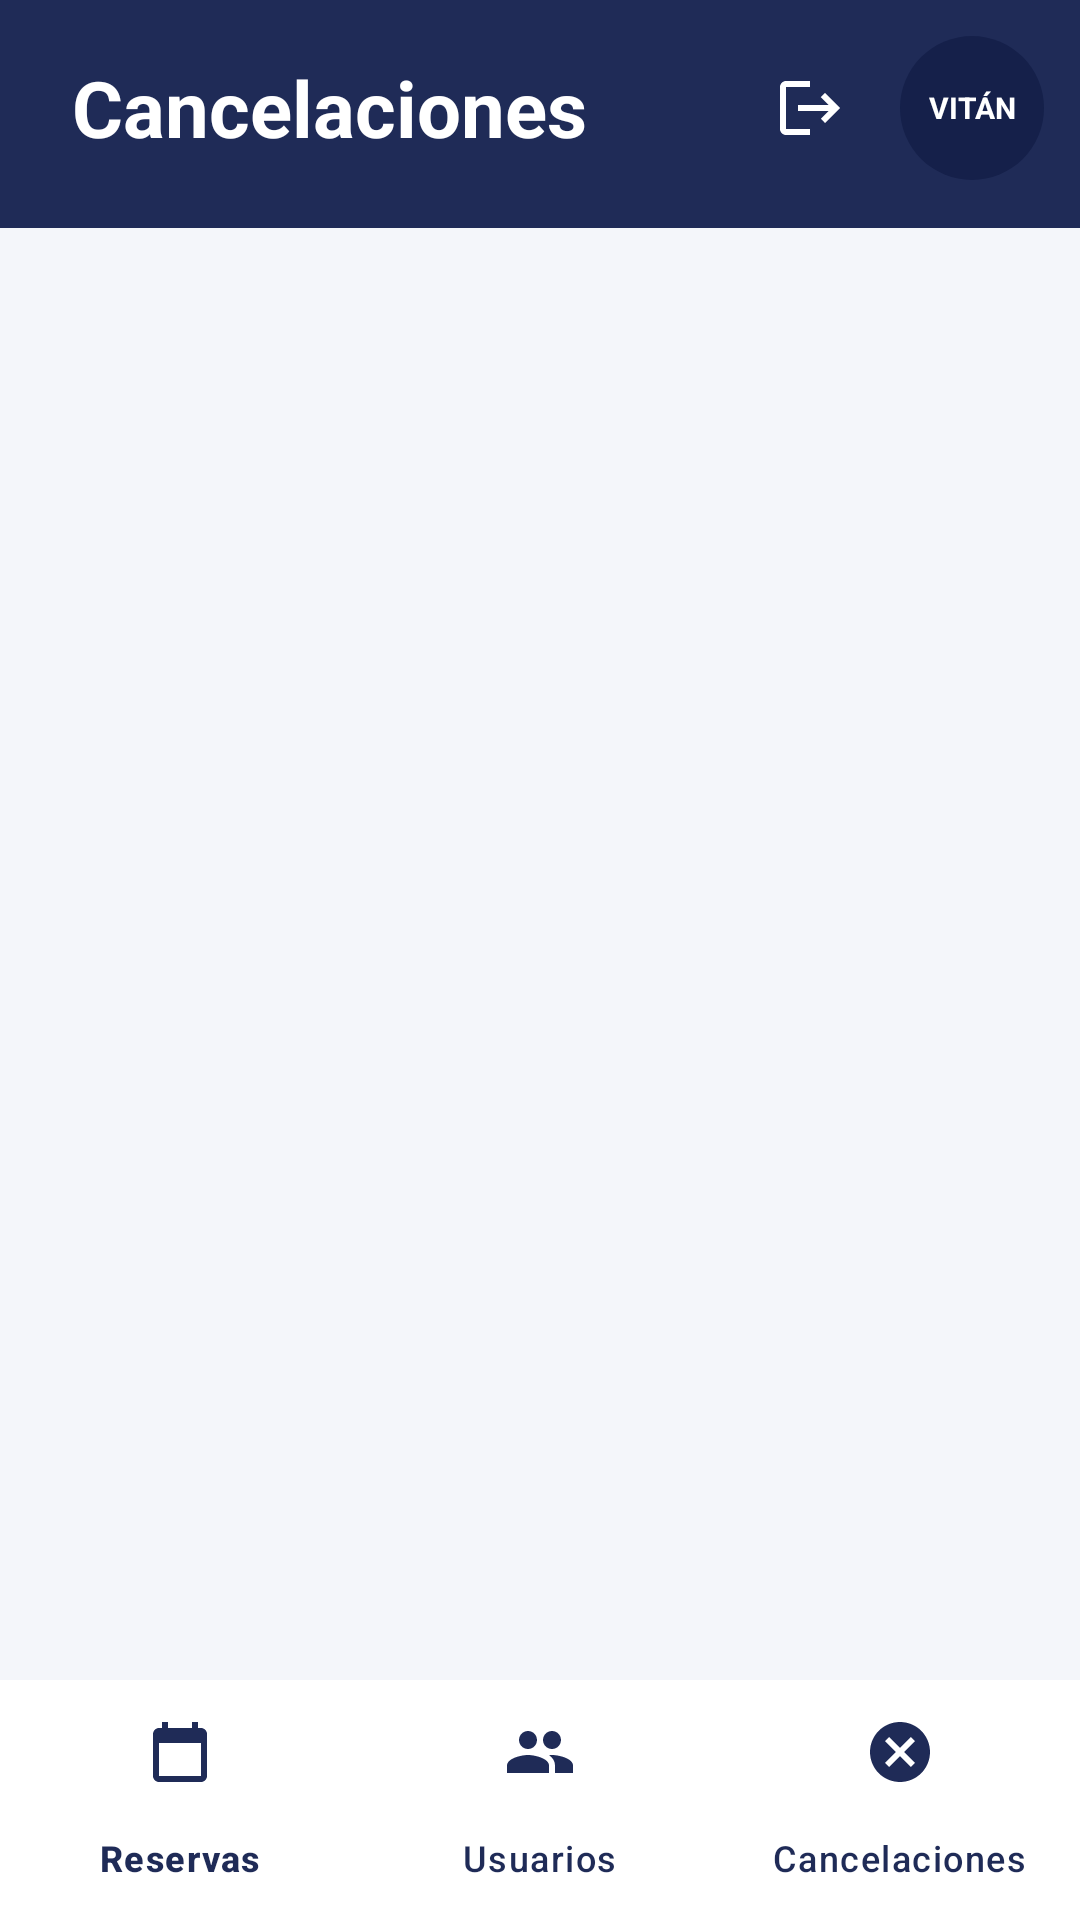

Where to tap for icons on this 1080 x 1920 app screen, as [x,y]:
Cerrar sesión: [810,108]
